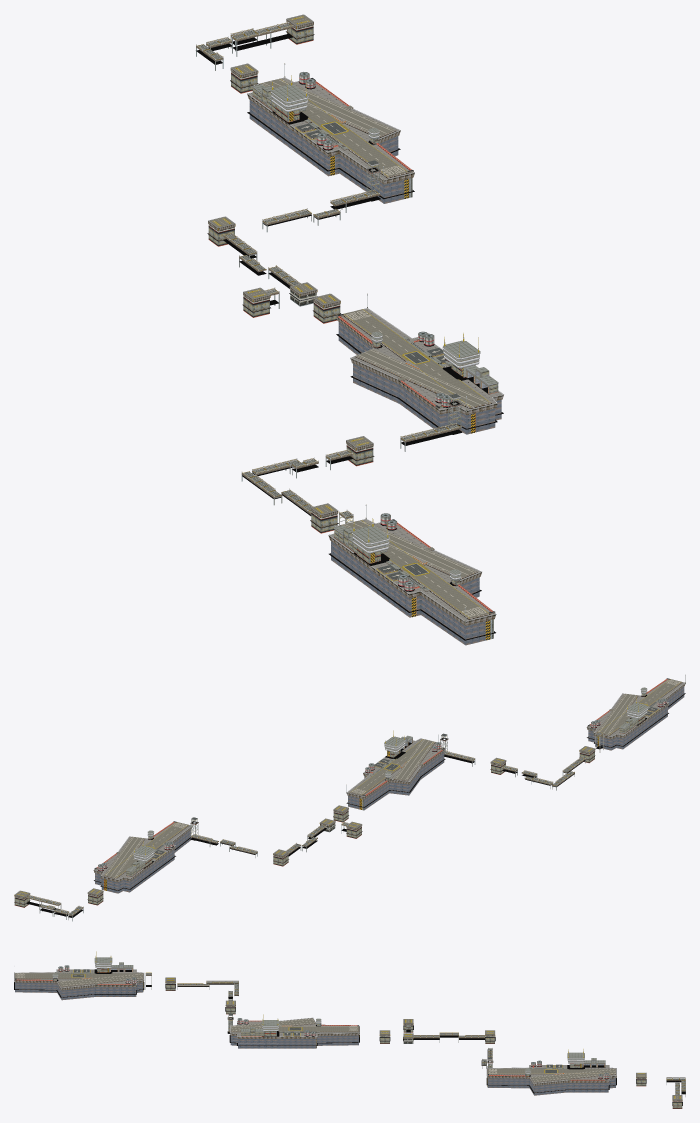
Rendered from WeaponsBed.obj.
The picture shows the model from 3 angles, top to bottom: view 1: azimuth 30°, elevation 25°; view 2: azimuth 150°, elevation 25°; view 3: azimuth 270°, elevation 25°; orthographic projection. The views are drawn at different scales.
Bounding box in the file's own units: 4650 × 534 × 10317.
Materials: 43 (43 with a texture image).
